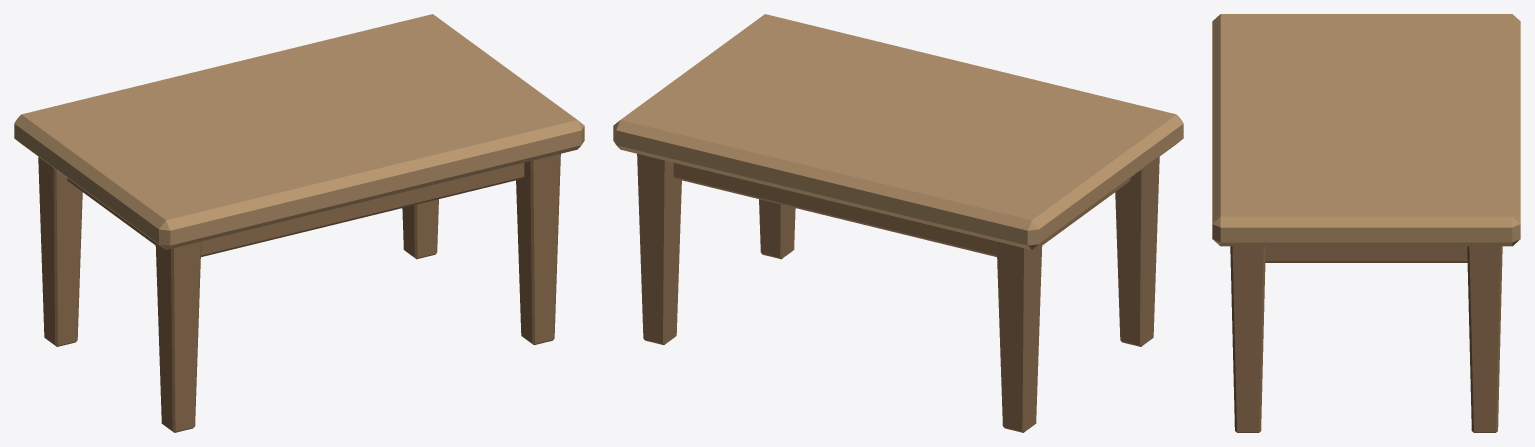
The model's file is BUILD0044_WoodenDiningTable.fbx.
3 views of the same model, side by side, from view 1: azimuth 30°, elevation 25°; view 2: azimuth 150°, elevation 25°; view 3: azimuth 270°, elevation 25° (orthographic).
Visible parts, largest first — view 1: BUILD0044_WoodenDiningTable; view 2: BUILD0044_WoodenDiningTable; view 3: BUILD0044_WoodenDiningTable.
Boxes of the visible parts, bbox=[...] form: BUILD0044_WoodenDiningTable: bbox=[14, 14, 584, 432]; BUILD0044_WoodenDiningTable: bbox=[613, 14, 1183, 432]; BUILD0044_WoodenDiningTable: bbox=[1212, 14, 1520, 432].
Bounding box in the file's own units: 1.8 × 0.9 × 1.12.
